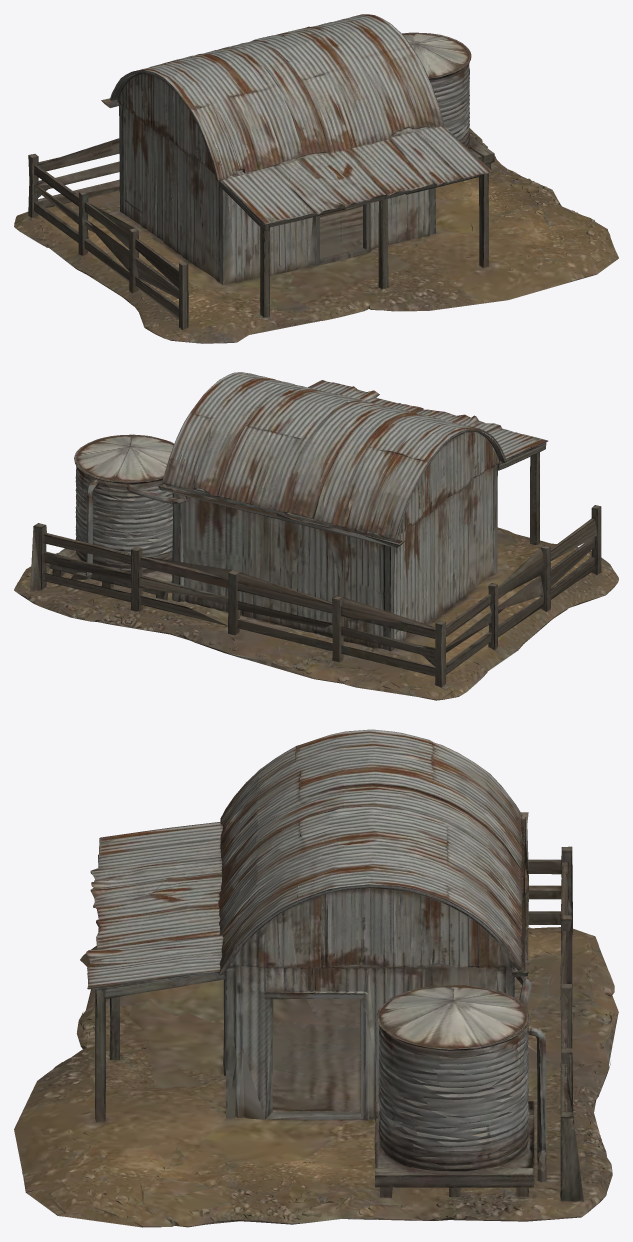
File: farm_shed.glb
The picture shows the model from 3 angles, top to bottom: view 1: azimuth 30°, elevation 25°; view 2: azimuth 150°, elevation 25°; view 3: azimuth 270°, elevation 25°; orthographic projection. The views are drawn at different scales.
Size of the model in its own units: 1.9 by 0.7429 by 1.6.
Materials: 1 (1 with a texture image).
